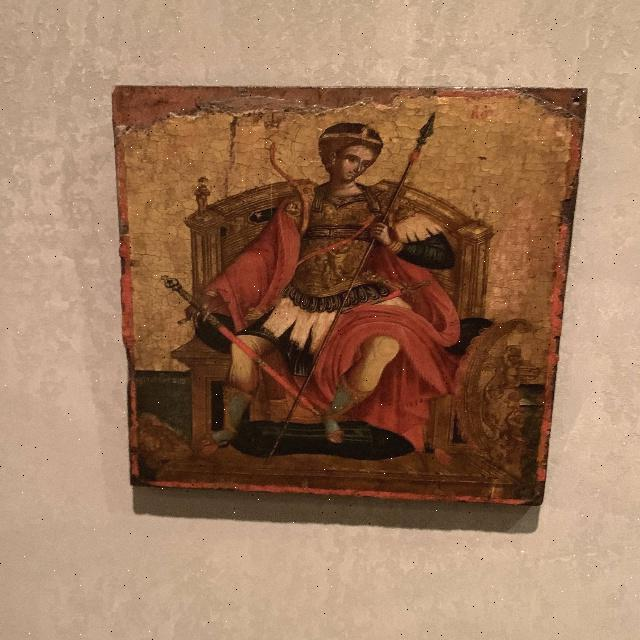spear: (293, 116, 427, 438)
st_demetrios: (180, 112, 444, 497)
sword: (152, 276, 353, 434)
